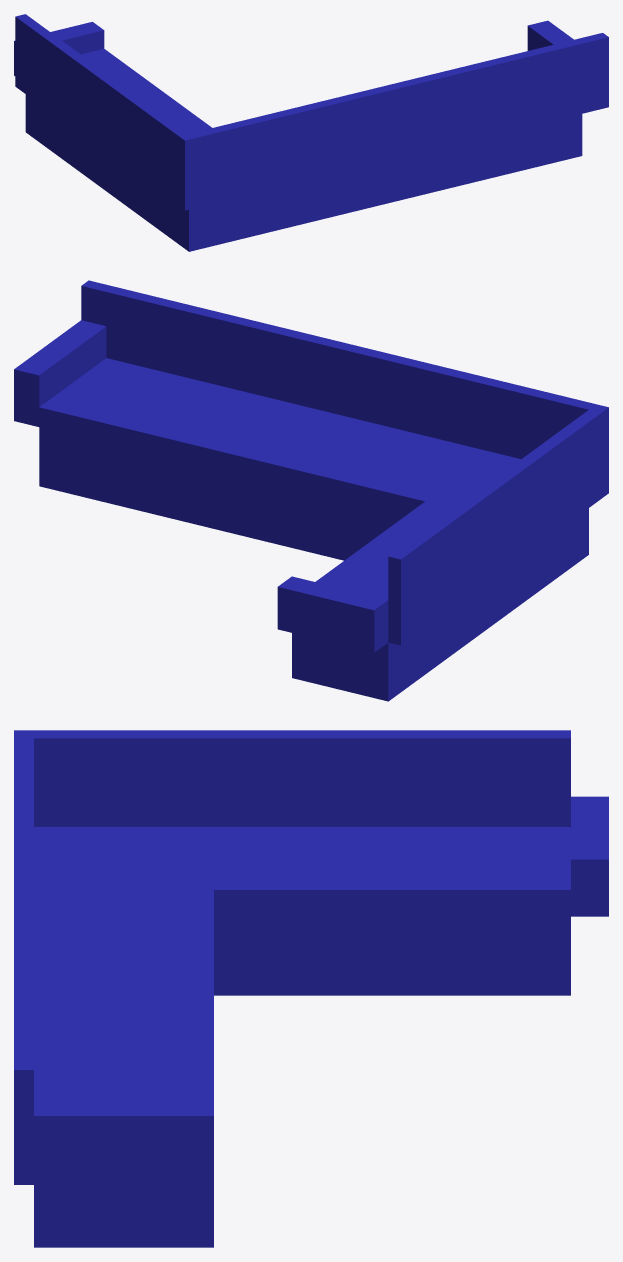
File: sohva.fbx
3 renders of one model, top to bottom at view 1: azimuth 30°, elevation 25°; view 2: azimuth 150°, elevation 25°; view 3: azimuth 270°, elevation 25°, orthographic. The views are drawn at different scales.
Parts seen in each view (by area): view 1: Cube; view 2: Cube; view 3: Cube.
Boxes of the visible parts, <box> form: Cube: <box>14,14,608,251</box>; Cube: <box>14,280,608,701</box>; Cube: <box>14,730,608,1247</box>.
Size of the model in its own units: 605 by 161 by 448.
